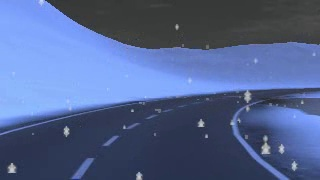Lane: (0, 87, 318, 179)
